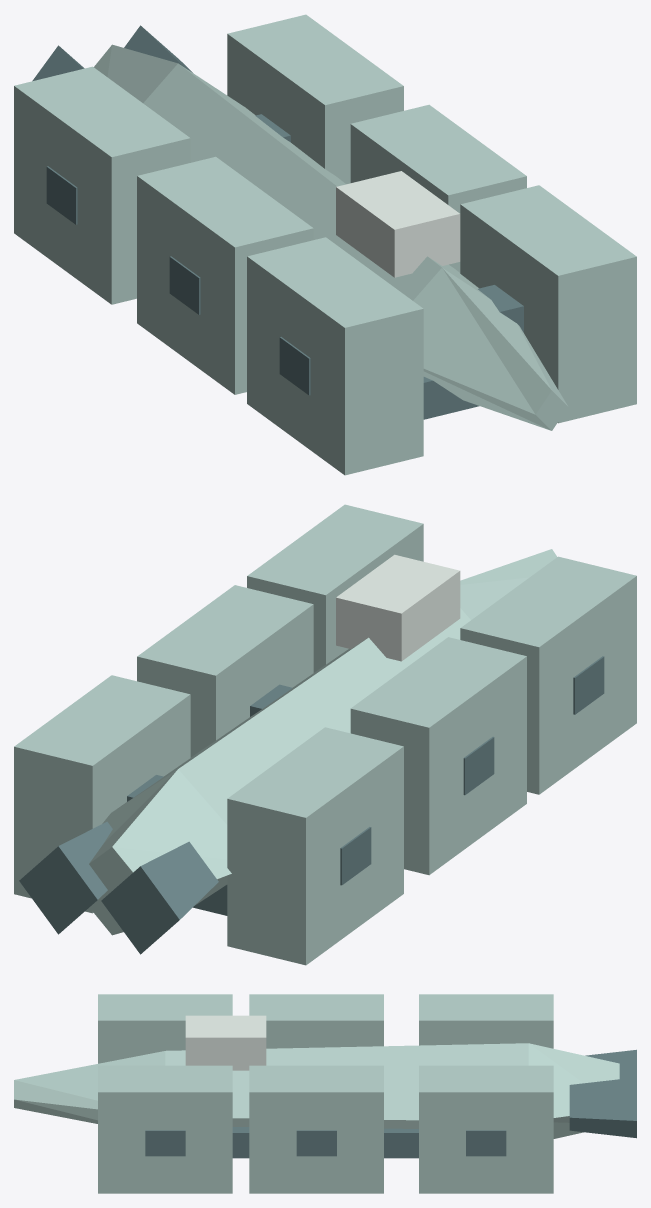
3 renders of one model, top to bottom at view 1: azimuth 30°, elevation 25°; view 2: azimuth 150°, elevation 25°; view 3: azimuth 270°, elevation 25°, orthographic. The views are drawn at different scales.
Size of the model in its own units: 3.42 by 1.9 by 9.07.
